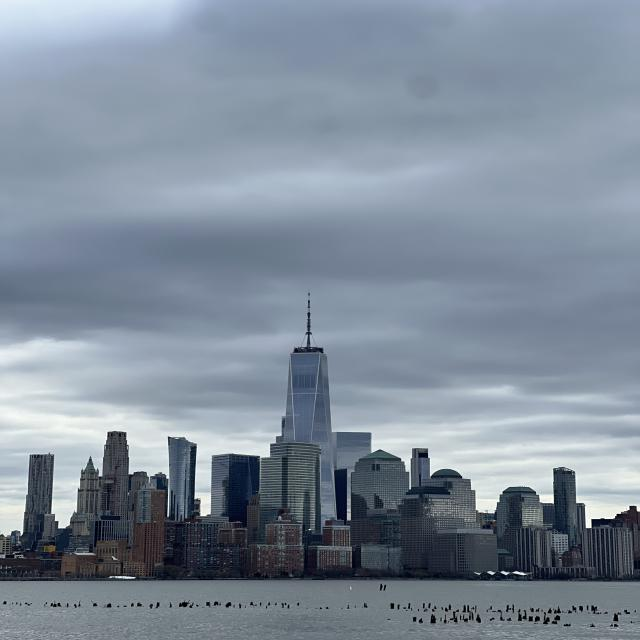WTC: (284, 297, 330, 446)
